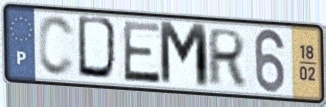6: (253, 27, 287, 96)
C: (36, 13, 77, 79)
D: (76, 13, 122, 84)
E: (121, 19, 163, 86)
M: (157, 19, 212, 92)
R: (206, 27, 248, 88)
